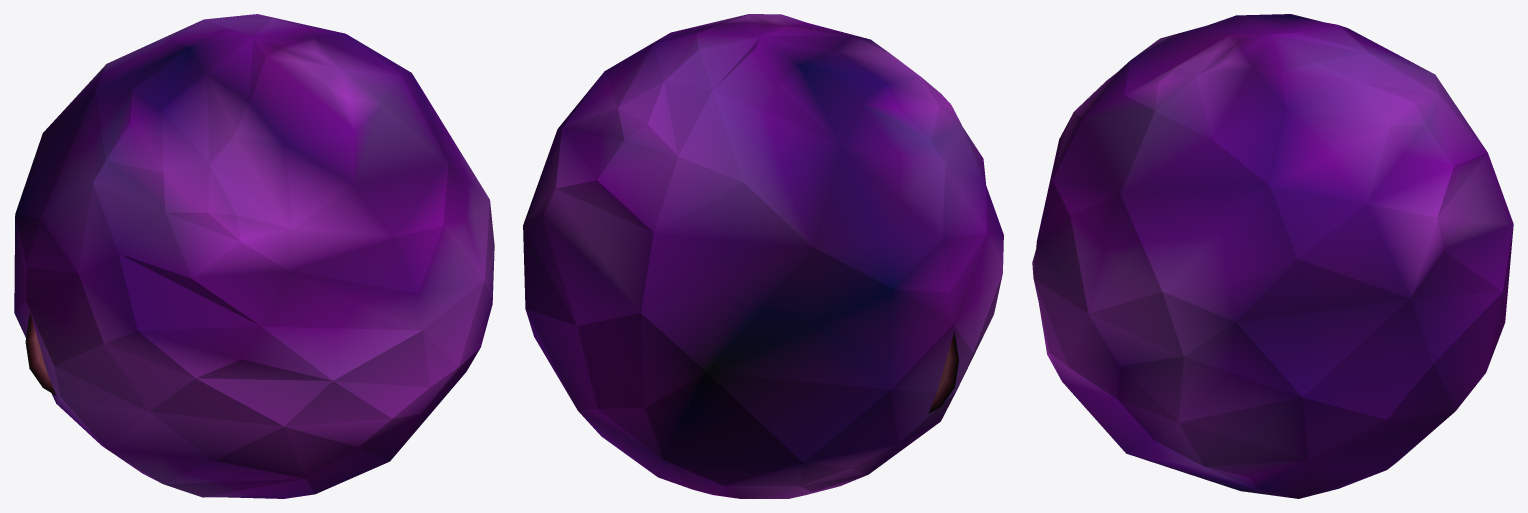
3 renders of one model, left to right at view 1: azimuth 30°, elevation 25°; view 2: azimuth 150°, elevation 25°; view 3: azimuth 270°, elevation 25°, orthographic.
Parts seen in each view (by area): view 1: part11, part8; view 2: part11, part8; view 3: part11.
Boxes of the visible parts, bbox=[...] form: part11: bbox=[14, 14, 494, 498]; part8: bbox=[25, 312, 56, 395]; part11: bbox=[523, 14, 1003, 498]; part8: bbox=[928, 331, 958, 414]; part11: bbox=[1032, 14, 1513, 498].
Size of the model in its own units: 12.91 by 13.03 by 12.81.
6 materials, 5 textured.
